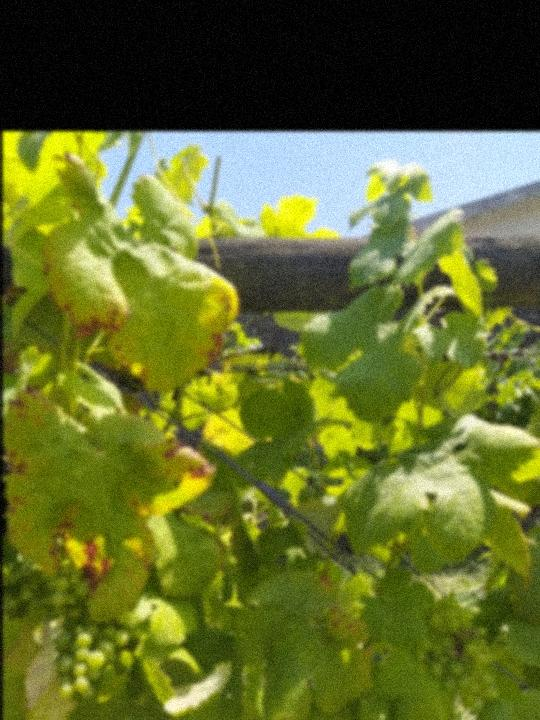grape: (40, 556, 132, 700), (413, 596, 503, 715)
